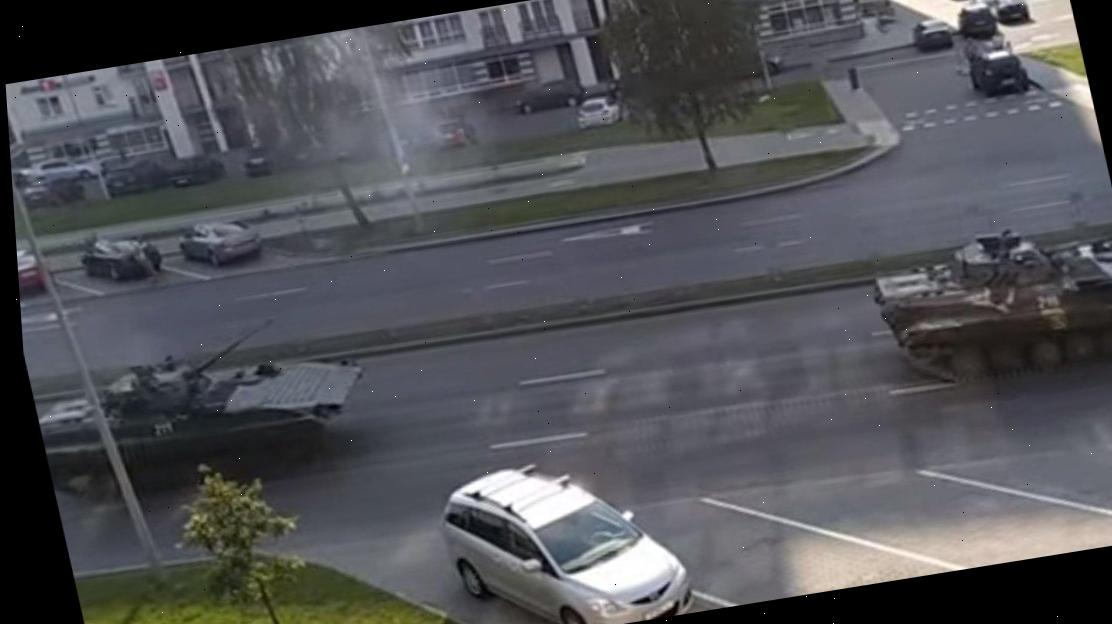car: (402, 442, 702, 624), (167, 213, 277, 279), (73, 228, 170, 290), (966, 48, 1034, 104), (16, 234, 65, 305), (909, 16, 952, 56), (958, 5, 992, 36), (996, 0, 1031, 23)
tank: (23, 317, 383, 508), (859, 205, 1112, 413)
